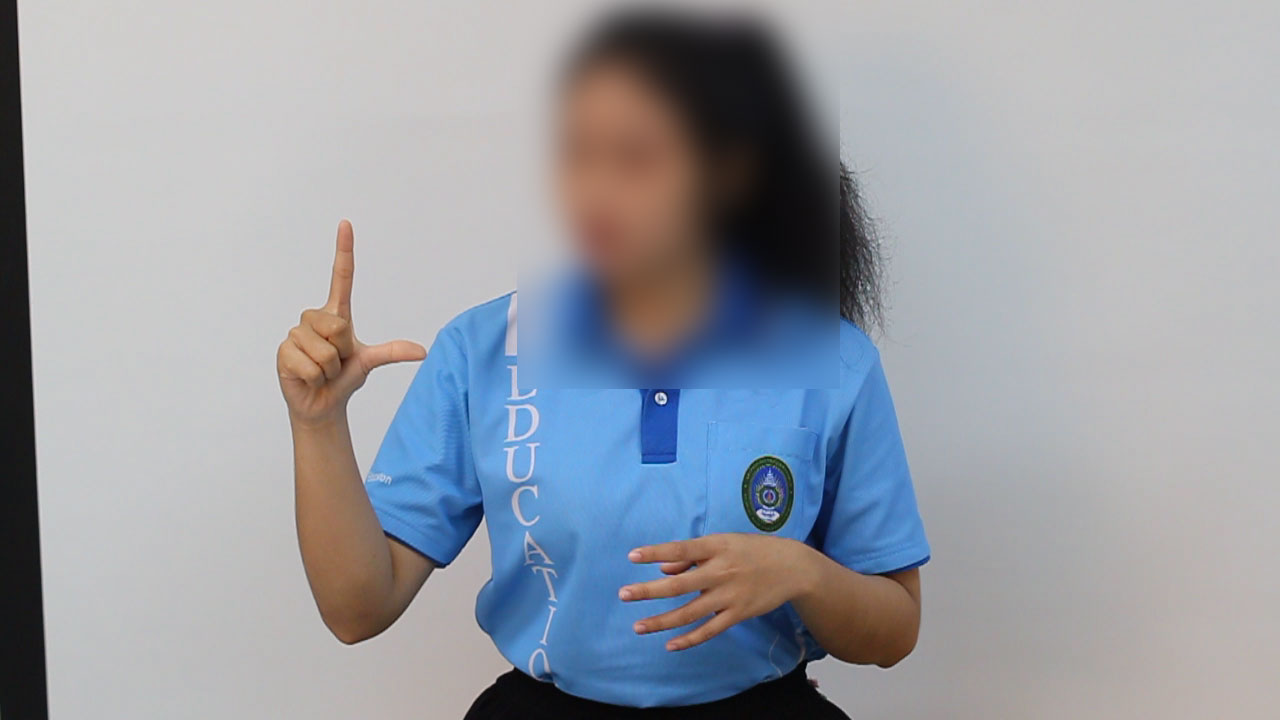lor: (247, 198, 438, 440)
